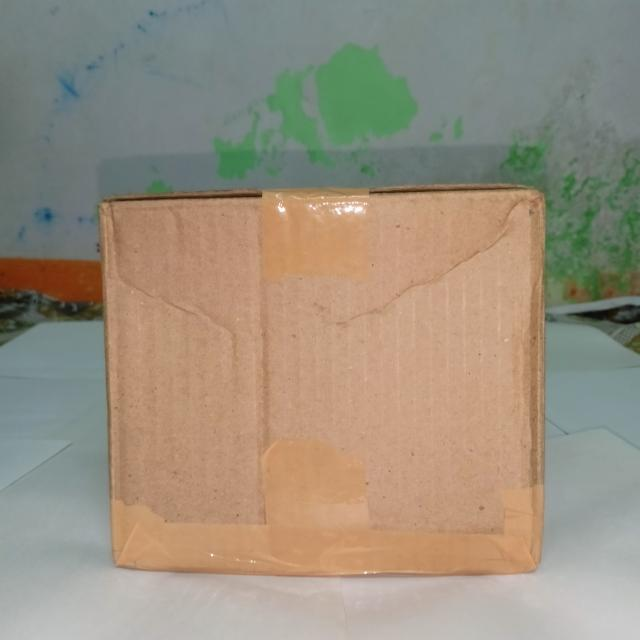box: (98, 186, 548, 580)
